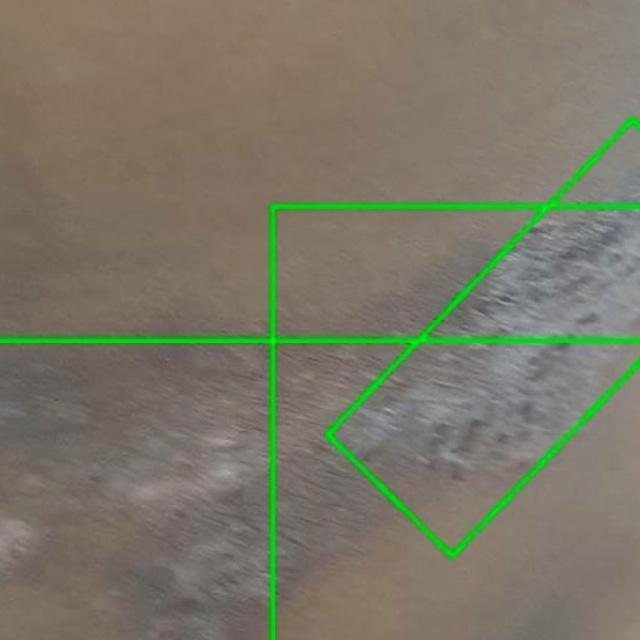Eczema: (0, 0, 639, 340), (272, 206, 639, 639), (327, 120, 639, 557)
